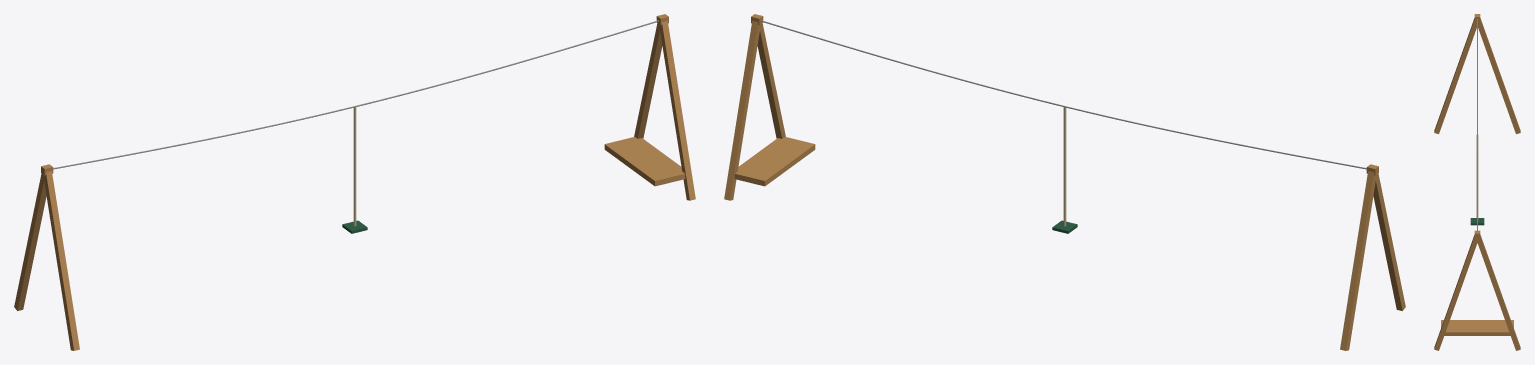
3 renders of one model, left to right at view 1: azimuth 30°, elevation 25°; view 2: azimuth 150°, elevation 25°; view 3: azimuth 270°, elevation 25°, orthographic. The views are drawn at different scales.
Parts seen in each view (by area): view 1: SW-A401; view 2: SW-A401; view 3: SW-A401.
Part boxes in pixels (left/top/right/bottom): SW-A401: left=14, top=14, right=695, bottom=350; SW-A401: left=724, top=14, right=1405, bottom=350; SW-A401: left=1434, top=14, right=1520, bottom=350.
Bounding box in the file's own units: 12 × 3 × 2.
